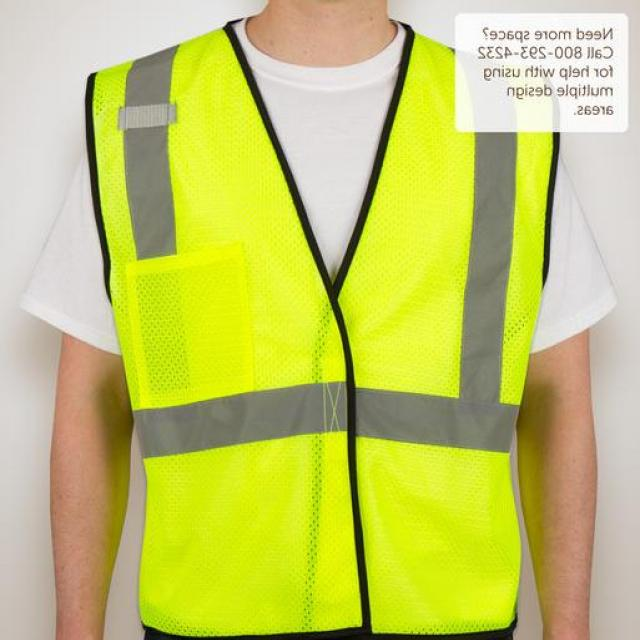Reflective-Jacket: (81, 10, 583, 640)
